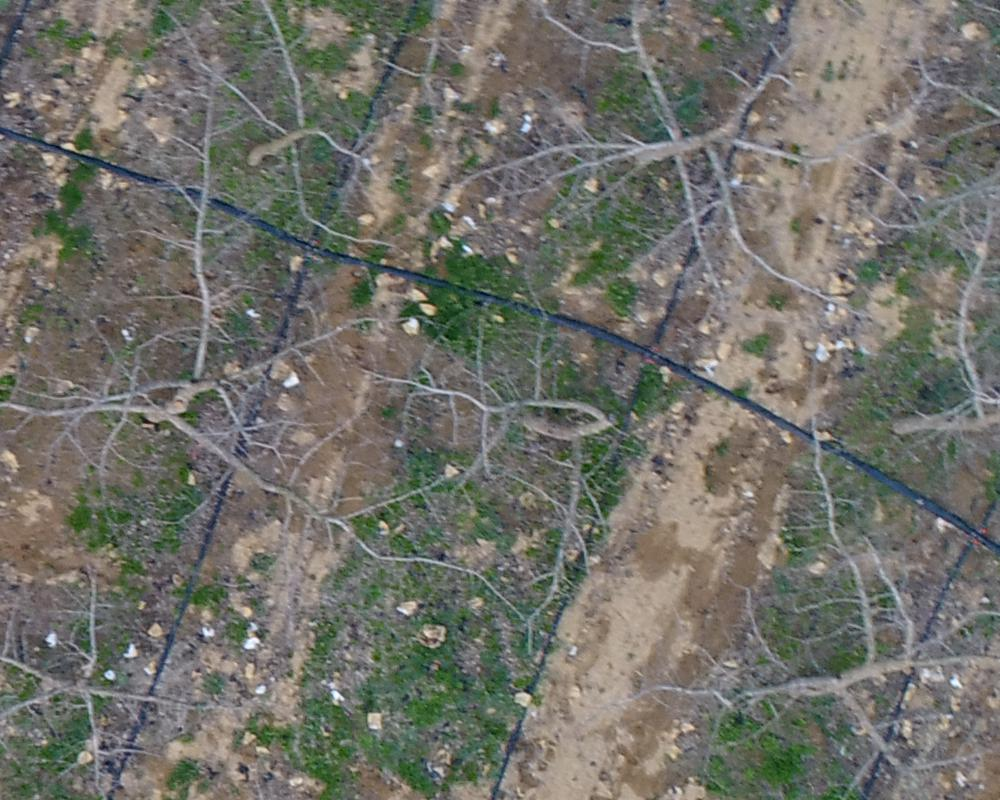apple: (10, 74, 514, 618), (452, 10, 870, 331), (641, 408, 990, 790), (338, 290, 667, 571), (164, 10, 413, 258), (10, 562, 217, 790)
